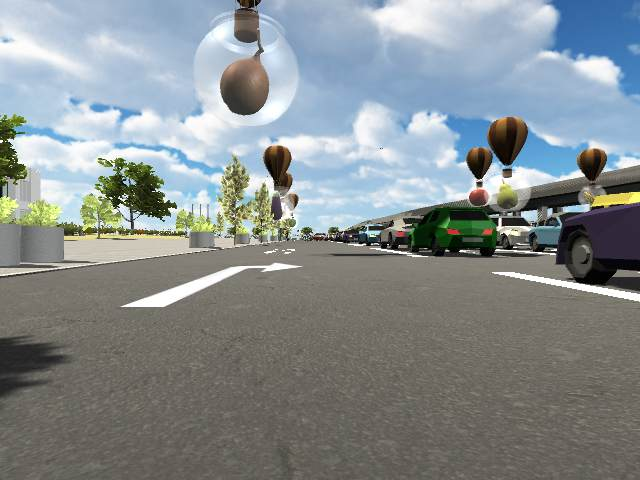ground_right: (214, 259, 303, 273)
